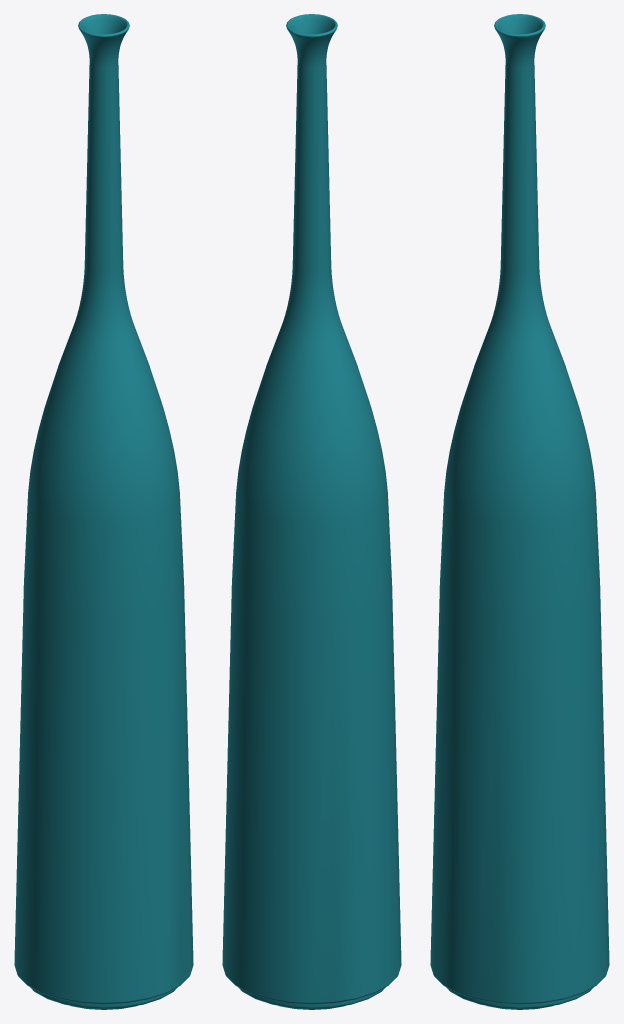
File: Pot6.fbx
The picture shows the model from 3 angles, left to right: view 1: azimuth 30°, elevation 25°; view 2: azimuth 150°, elevation 25°; view 3: azimuth 270°, elevation 25°; orthographic projection.
Parts seen in each view (by area): view 1: Pot6; view 2: Pot6; view 3: Pot6.
Part boxes in pixels (<box>): Pot6: <box>14,14,193,1009</box>; Pot6: <box>222,14,401,1009</box>; Pot6: <box>430,14,609,1009</box>.
Bounding box in the file's own units: 0.0564 × 0.3331 × 0.0564.
